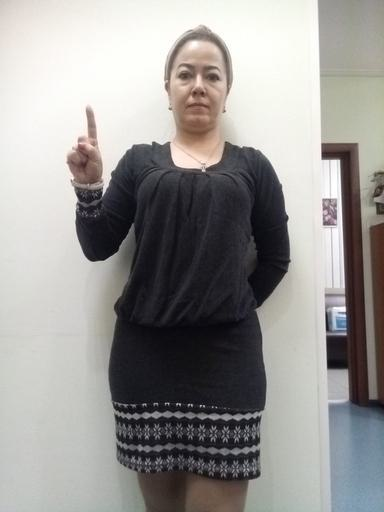one: (65, 103, 105, 187)
